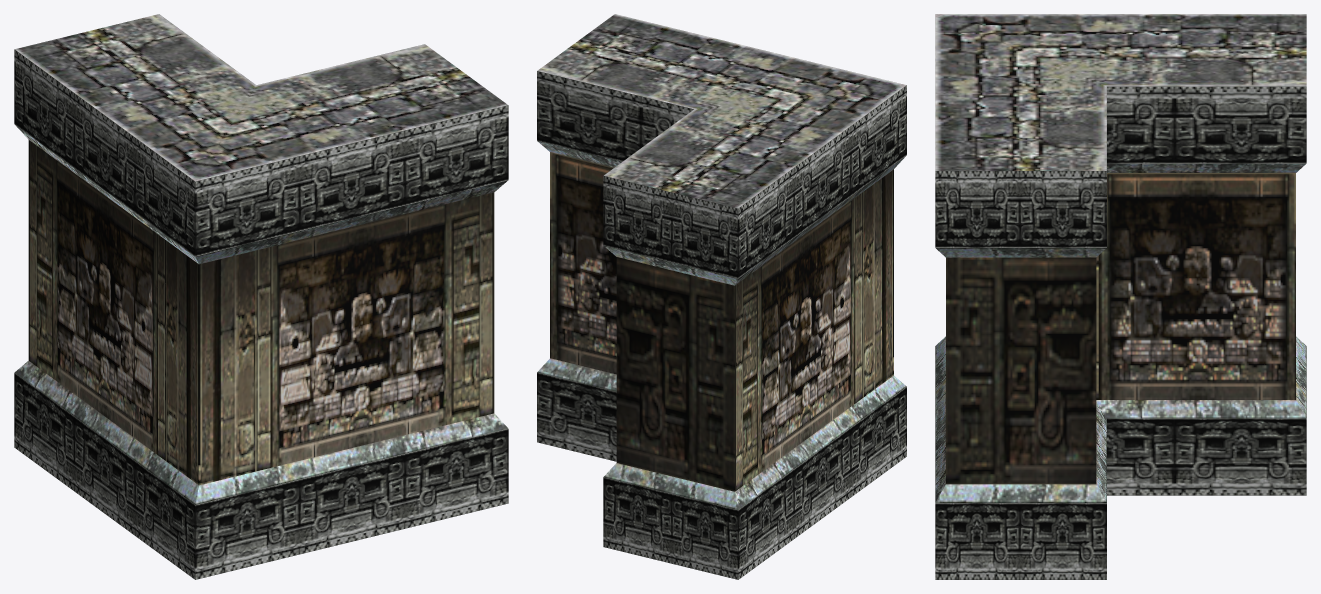
The model's file is Desert_building02.FBX.
3 views of the same model, side by side, from view 1: azimuth 30°, elevation 25°; view 2: azimuth 150°, elevation 25°; view 3: azimuth 270°, elevation 25° (orthographic). The views are drawn at different scales.
Visible parts, largest first — view 1: Object003; view 2: Object003; view 3: Object003.
Boxes of the visible parts, <box> form: Object003: <box>14,14,508,579</box>; Object003: <box>537,14,906,579</box>; Object003: <box>935,14,1306,579</box>.
Size of the model in its own units: 550 by 668 by 550.
Materials: 3 (3 with a texture image).
